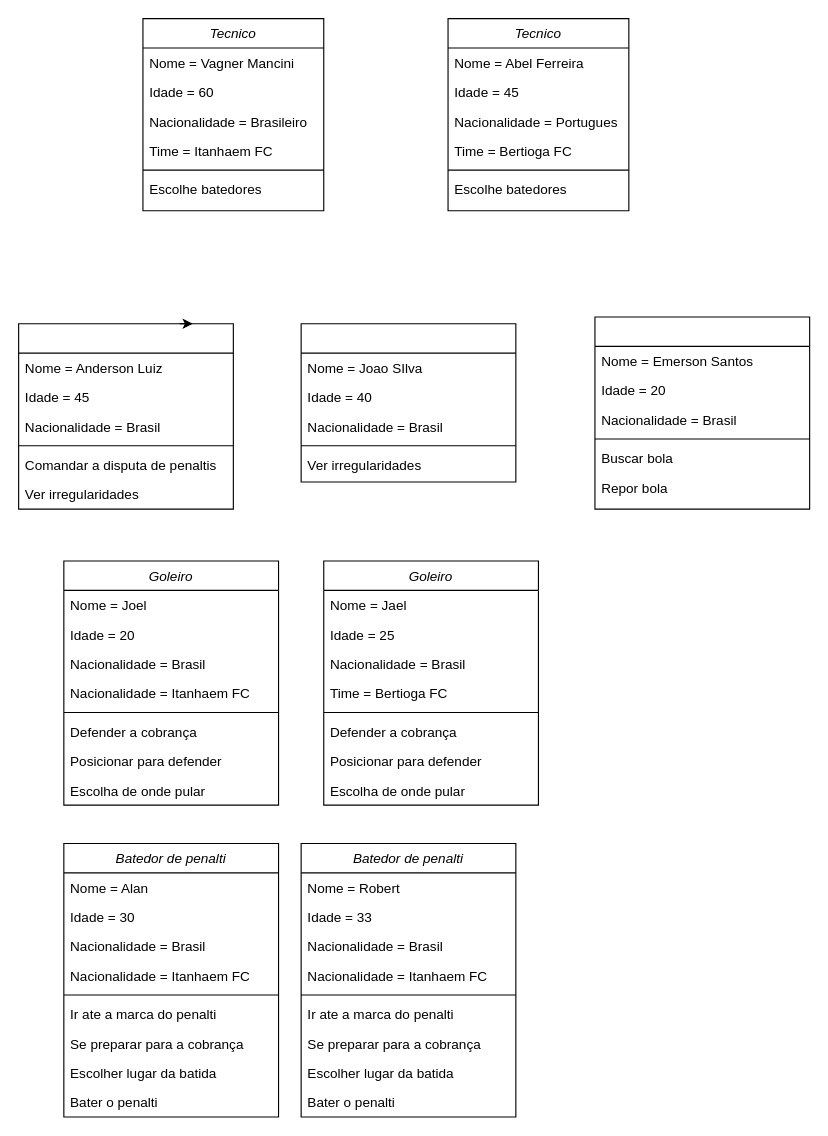
This 828x1136 diagram has some shape labels left out. The shapes that lost their labels are listed below. From the top down, each one's box as (x1, y1, x2, y2) in pixels, then its label:
(18, 323, 233, 509): Juiz
(300, 323, 516, 482): Bandeirinha
(594, 316, 810, 509): Gandula
